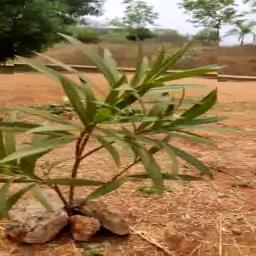OLEANDER: (14, 28, 218, 206)
